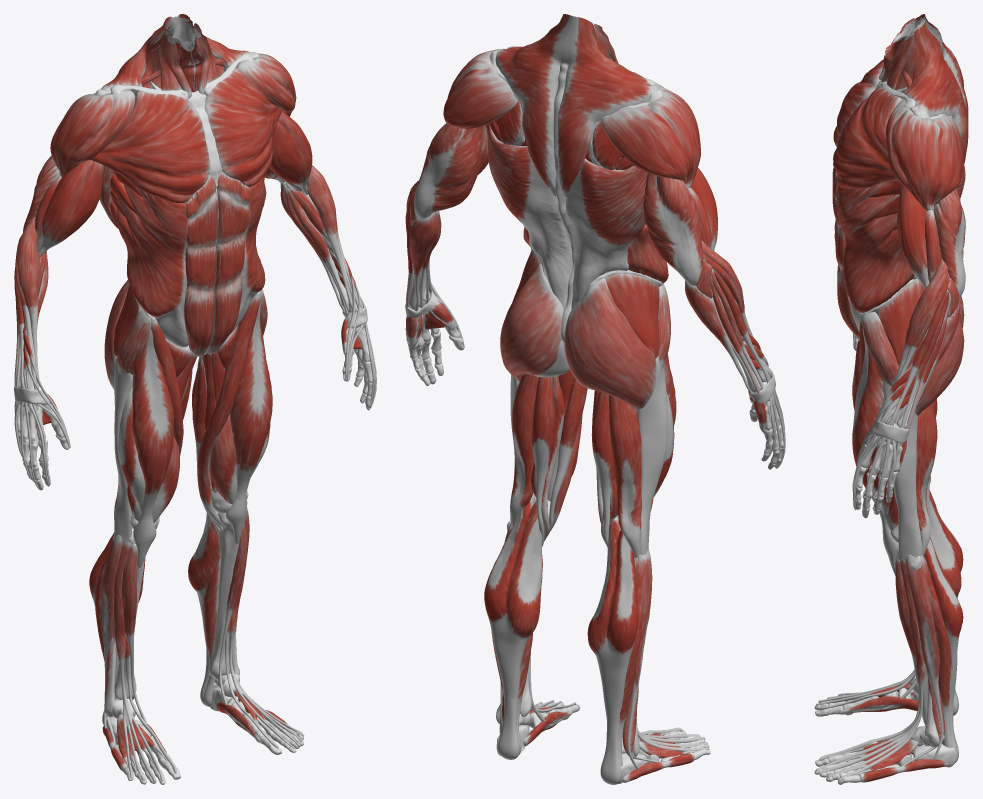
File: diego-training-v4.glb
The picture shows the model from 3 angles, left to right: view 1: azimuth 30°, elevation 25°; view 2: azimuth 150°, elevation 25°; view 3: azimuth 270°, elevation 25°; orthographic projection. The views are drawn at different scales.
Parts seen in each view (by area): view 1: defaultMat_3, defaultMat_6, material_0, defaultMat_2, defaultMat_0, defaultMat, defaultMat_11, defaultMat_10, defaultMat_5, defaultMat_1, defaultMat_12, defaultMat_8 (+2 smaller); view 2: defaultMat_8, defaultMat_10, defaultMat_12, defaultMat_9, defaultMat_11, defaultMat, defaultMat_0, material_0, material_1, defaultMat_2, defaultMat_1, defaultMat_4 (+2 smaller); view 3: defaultMat_3, defaultMat_2, material_0, defaultMat_0, defaultMat_11, defaultMat_10, defaultMat, defaultMat_12, defaultMat_8, defaultMat_6, material_1, defaultMat_9 (+2 smaller).
Boxes of the visible parts, <box> form: defaultMat_3: <box>89,67,282,356</box>; defaultMat_6: <box>118,291,272,567</box>; material_0: <box>14,52,372,784</box>; defaultMat_2: <box>100,507,304,782</box>; defaultMat_0: <box>14,165,376,489</box>; defaultMat: <box>23,111,312,257</box>; defaultMat_11: <box>50,53,296,177</box>; defaultMat_10: <box>89,484,220,725</box>; defaultMat_5: <box>133,17,226,97</box>; defaultMat_1: <box>165,324,238,527</box>; defaultMat_12: <box>104,280,267,389</box>; defaultMat_8: <box>99,14,251,243</box>; defaultMat_8: <box>486,14,654,309</box>; defaultMat_10: <box>484,500,642,784</box>; defaultMat_12: <box>500,250,670,410</box>; defaultMat_9: <box>510,374,641,557</box>; defaultMat_11: <box>443,48,700,187</box>; defaultMat: <box>414,123,717,285</box>; defaultMat_0: <box>405,180,785,467</box>; material_0: <box>406,46,784,783</box>; material_1: <box>405,16,775,555</box>; defaultMat_2: <box>499,523,709,782</box>; defaultMat_1: <box>548,370,617,534</box>; defaultMat_4: <box>406,282,779,432</box>; defaultMat_3: <box>832,59,914,340</box>; defaultMat_2: <box>816,554,948,782</box>; material_0: <box>814,69,956,784</box>; defaultMat_0: <box>852,258,960,517</box>; defaultMat_11: <box>885,46,963,210</box>; defaultMat_10: <box>923,490,963,762</box>; defaultMat: <box>897,160,965,298</box>; defaultMat_12: <box>862,279,964,415</box>; defaultMat_8: <box>869,14,968,279</box>; defaultMat_6: <box>852,313,898,575</box>; material_1: <box>872,18,946,561</box>; defaultMat_9: <box>916,398,937,556</box>.
Bounding box in the file's own units: 0.861 × 1.68 × 0.3226.
Materials: 15 (13 with a texture image).
